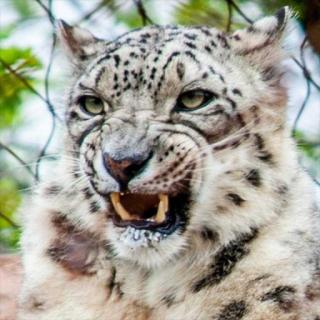Leopard: (8, 13, 320, 320)
